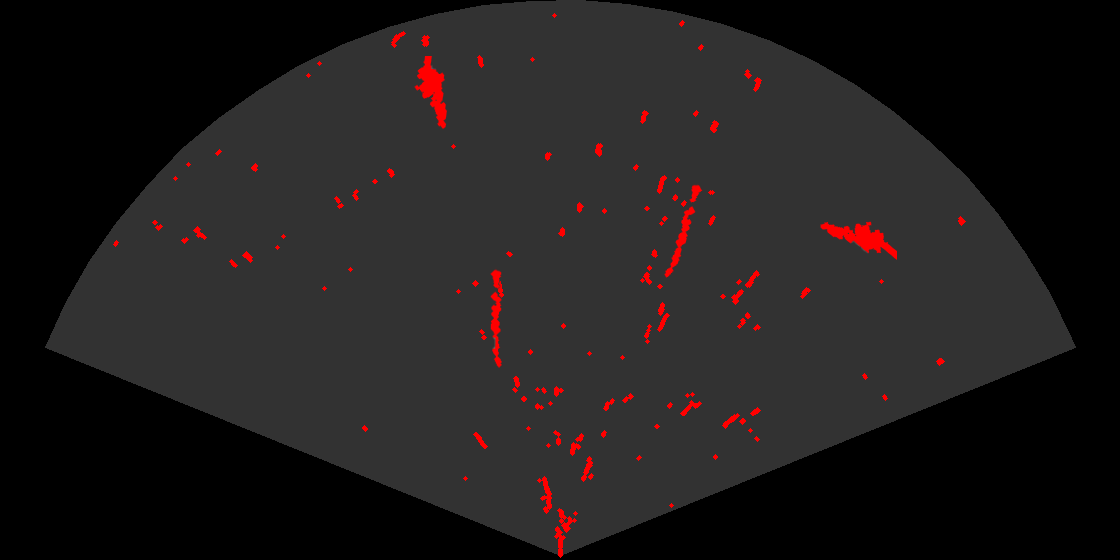chain: (663, 182, 704, 279), (489, 267, 503, 368)
frogman: (819, 220, 897, 261), (413, 56, 449, 130)
